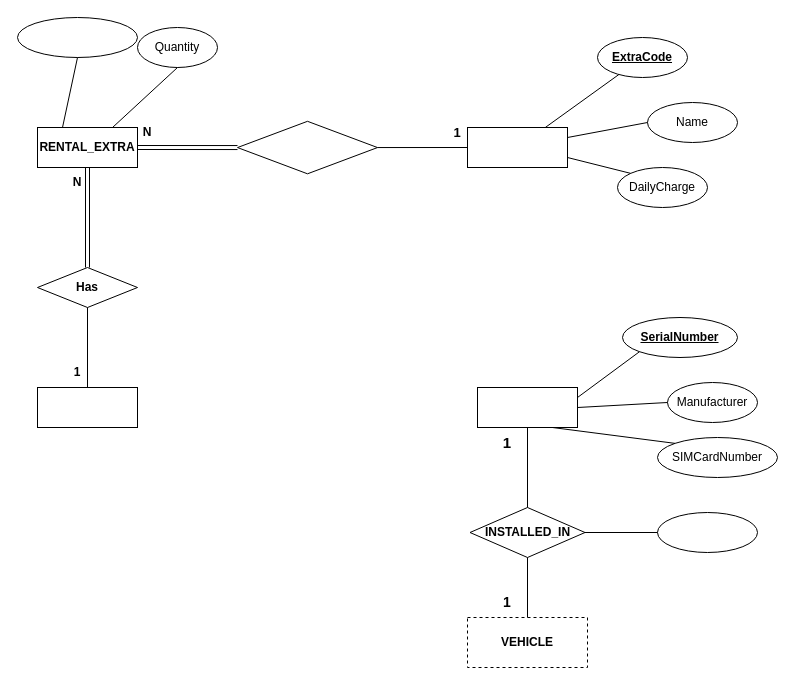
Image size: 795x685. Some labels were removed from this diagram. The centre of each missing label's shape, as x and y in pixels:
"DailyChargeAtRental" belongs at pixel 77 37.
"EXTRA" belongs at pixel 517 147.
"GPS_DEVICE" belongs at pixel 527 407.
"INCLUDES" belongs at pixel 307 147.
"InstallationDate" belongs at pixel 707 532.
"RENTAL" belongs at pixel 87 407.
